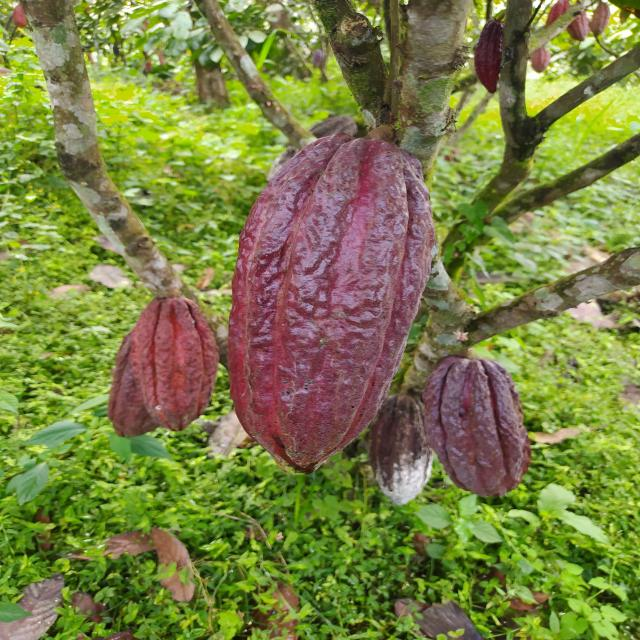Monilia: (372, 393, 434, 507)
Sana: (229, 135, 435, 474), (427, 358, 530, 496), (132, 297, 222, 433), (107, 328, 165, 438), (472, 16, 509, 94), (546, 0, 570, 32), (590, 2, 610, 37), (567, 13, 589, 42), (532, 47, 550, 73)
